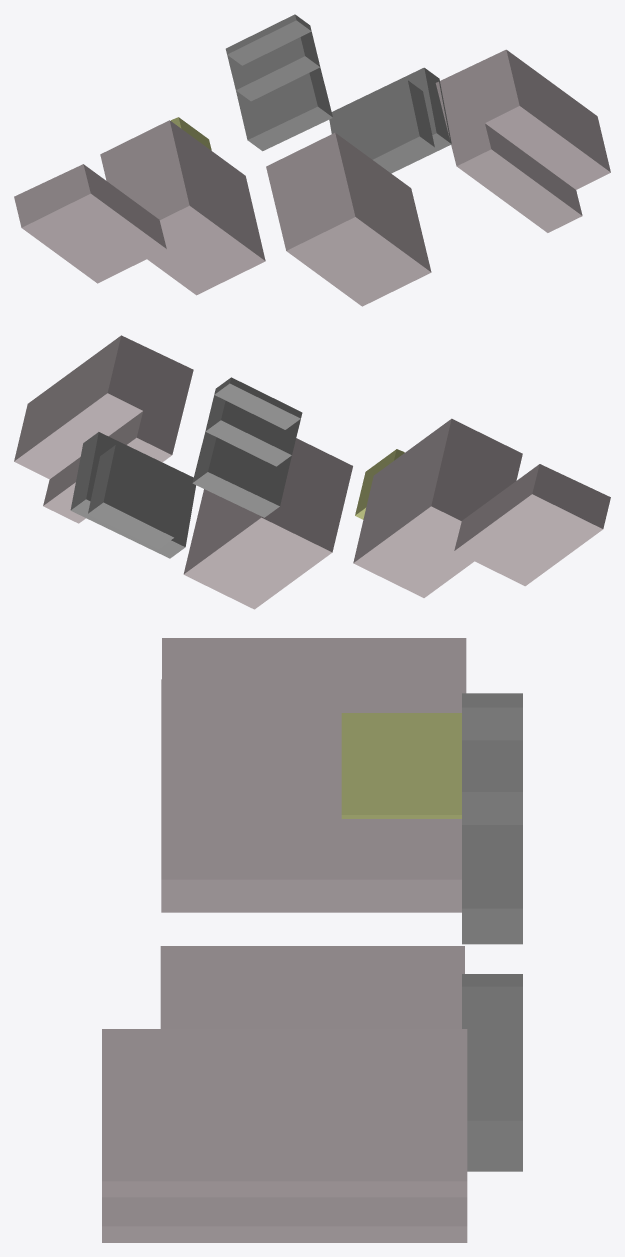
The picture shows the model from 3 angles, top to bottom: view 1: azimuth 30°, elevation 25°; view 2: azimuth 150°, elevation 25°; view 3: azimuth 270°, elevation 25°; orthographic projection. The views are drawn at different scales.
Parts seen in each view (by area): view 1: 0_2_3_2_1_1_3_2_3; view 2: 0_2_3_2_1_1_3_2_3; view 3: 0_2_3_2_1_1_3_2_3.
Boxes of the visible parts, <box> form: 0_2_3_2_1_1_3_2_3: <box>14,14,610,306</box>; 0_2_3_2_1_1_3_2_3: <box>14,335,610,609</box>; 0_2_3_2_1_1_3_2_3: <box>102,638,522,1242</box>.
Size of the model in its own units: 57.59 by 23.98 by 20.75.
